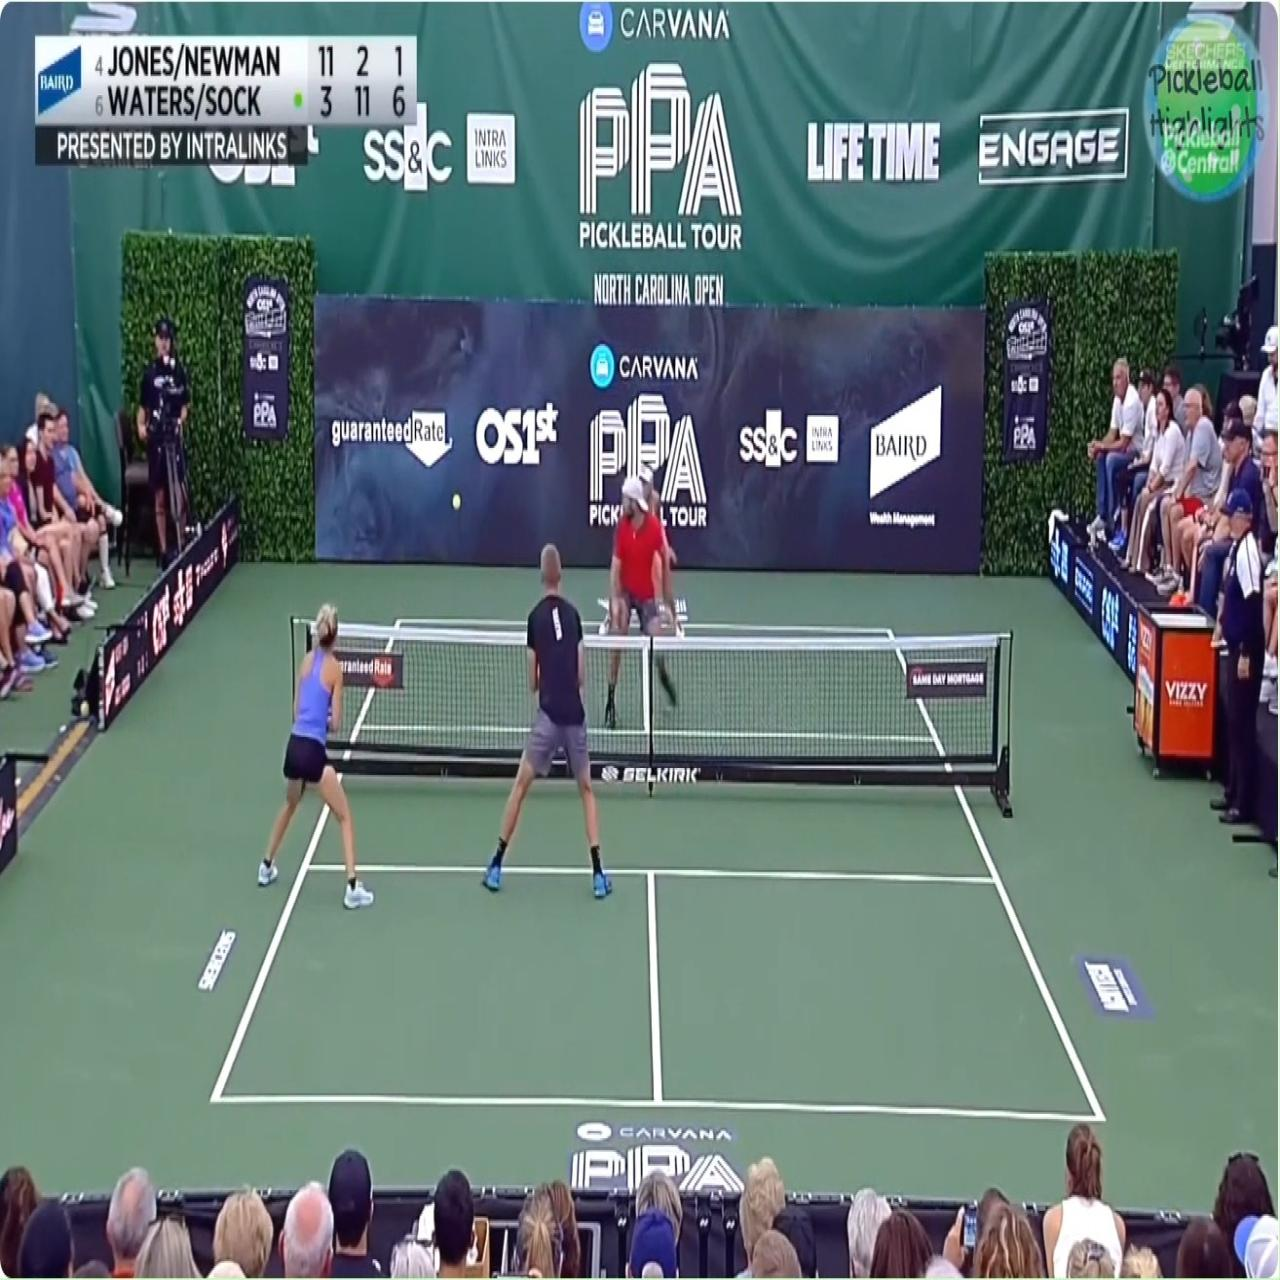pickleball: (452, 492, 461, 511)
